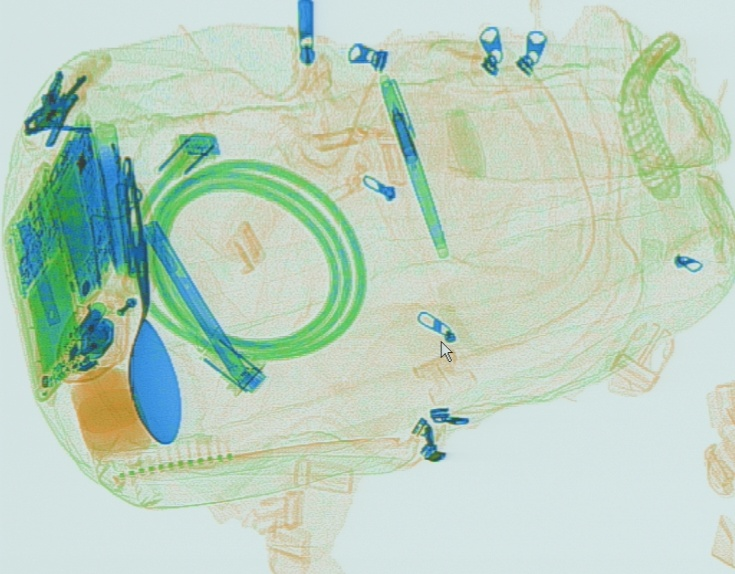knife: (13, 213, 63, 328)
